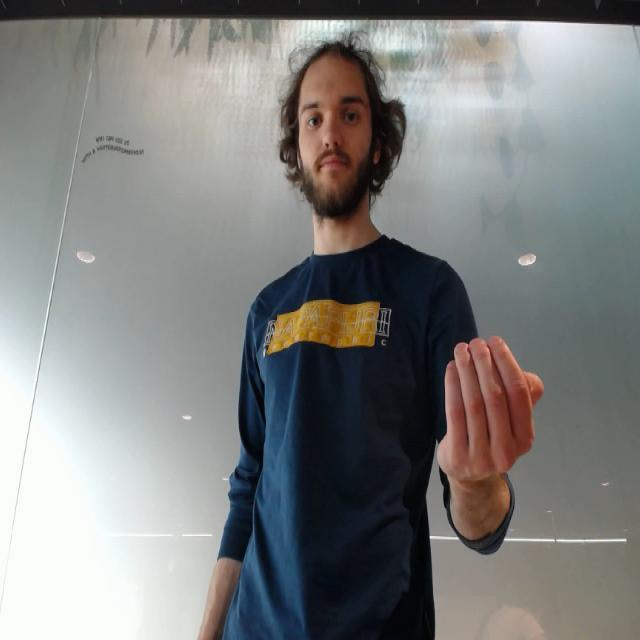forward: (429, 331, 545, 487)
